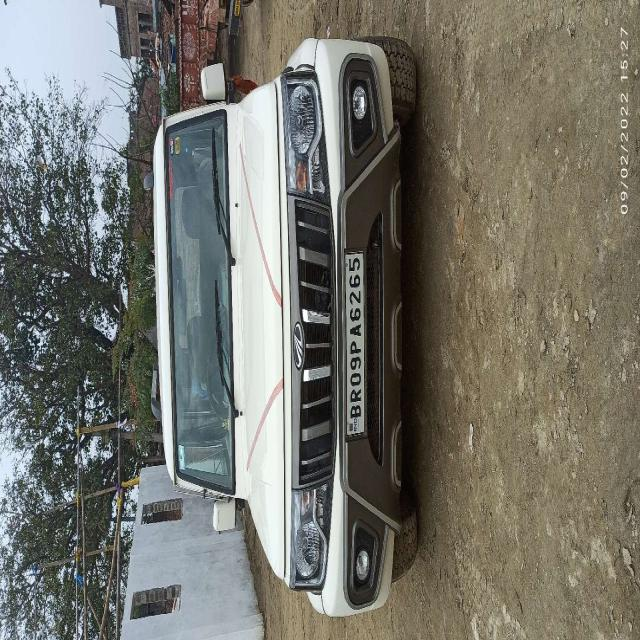light_vehicle: (159, 46, 401, 579)
